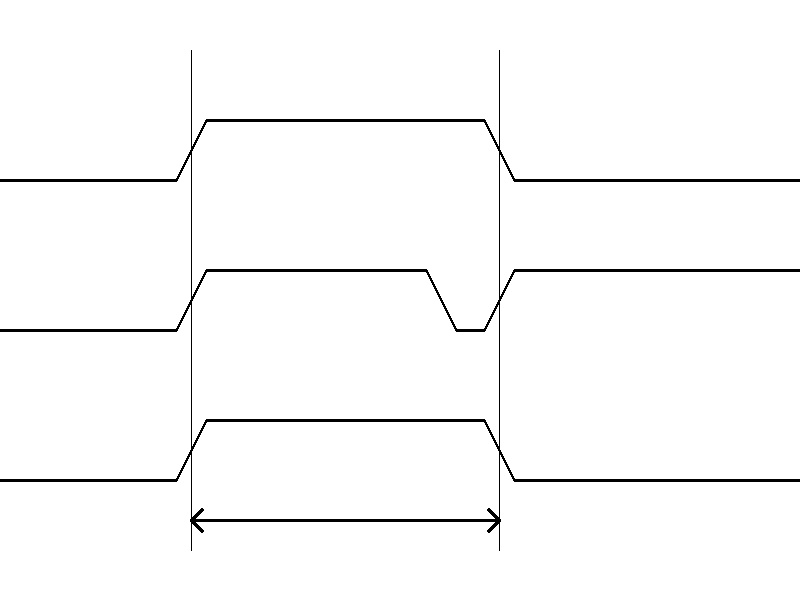double_arrow: (191, 505, 499, 535)
